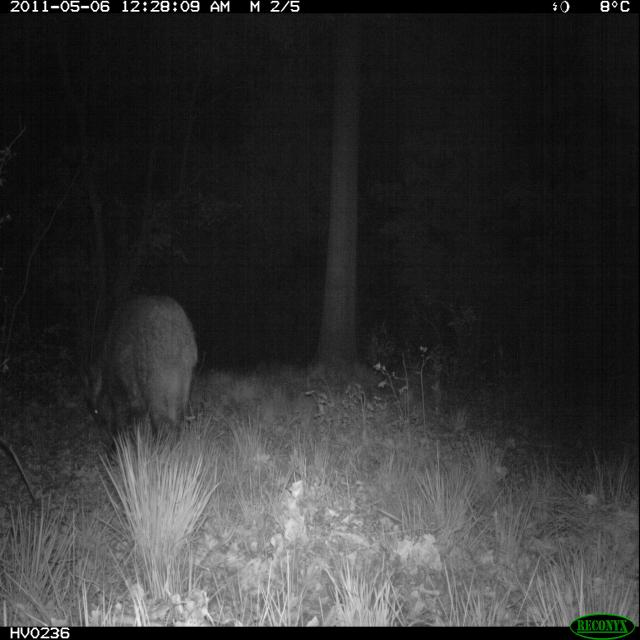boar: (69, 276, 225, 449)
